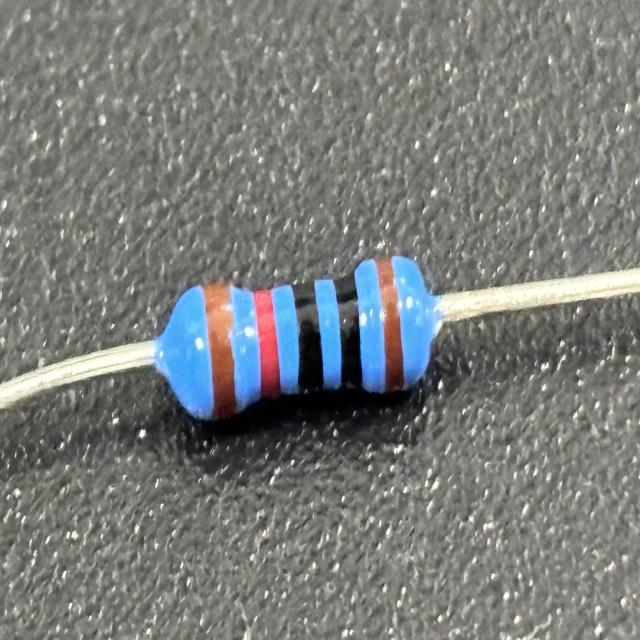resistor: (164, 249, 431, 427)
